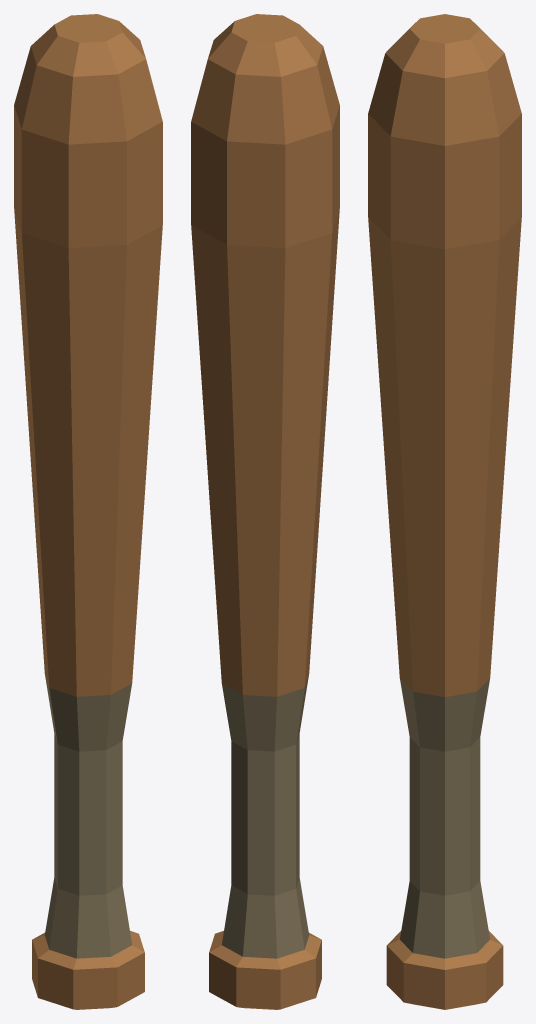
File: melee-bat.glb
3 renders of one model, left to right at view 1: azimuth 30°, elevation 25°; view 2: azimuth 150°, elevation 25°; view 3: azimuth 270°, elevation 25°, orthographic.
Parts seen in each view (by area): view 1: Batte; view 2: Batte; view 3: Batte.
Part boxes in pixels (box(x1,y1,x2,y2)): Batte: box(14, 14, 162, 1009); Batte: box(191, 14, 339, 1009); Batte: box(368, 14, 521, 1009).
Bounding box in the file's own units: 108 × 748 × 108.
